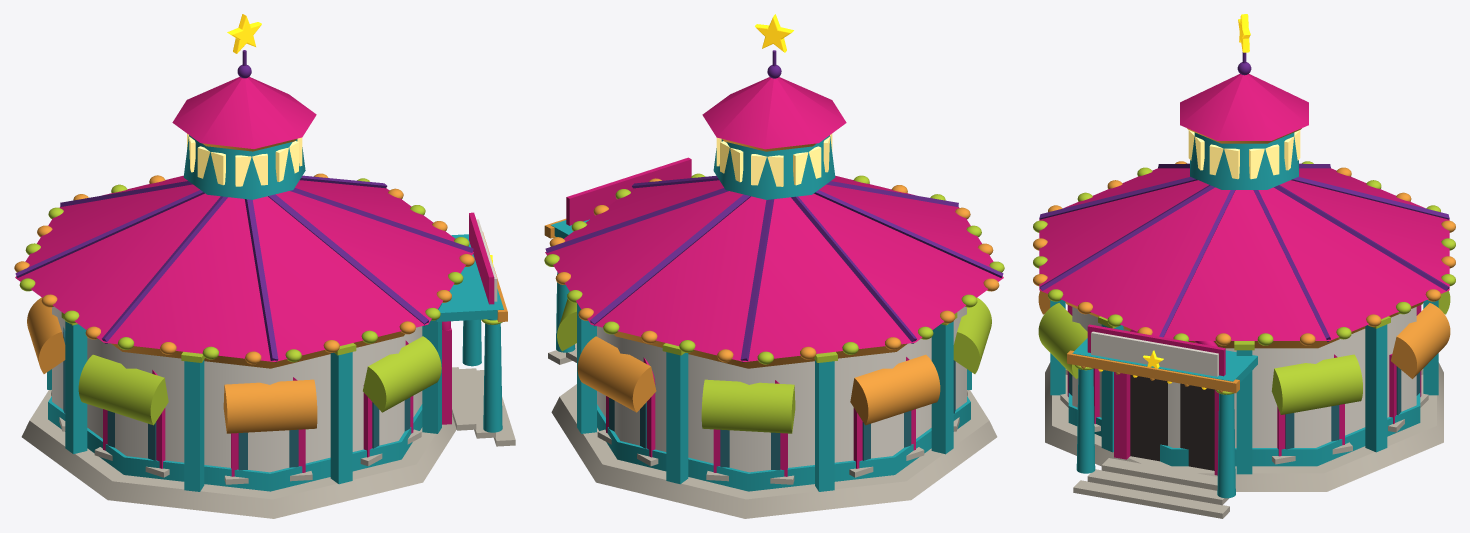
File: hub.glb
3 views of the same model, side by side, from view 1: azimuth 30°, elevation 25°; view 2: azimuth 150°, elevation 25°; view 3: azimuth 270°, elevation 25° (orthographic). The views are drawn at different scales.
Visible parts, largest first — view 1: roof_cone, wall_drum, plinth, lantern_roof, wall_skirt, awning_2, awning_3, lantern_drum, awning_1, pilaster_2, pilaster_3, pilaster_4 (+26 smaller); view 2: roof_cone, wall_drum, plinth, lantern_roof, wall_skirt, awning_5, awning_4, lantern_drum, awning_6, pilaster_6, pilaster_4, pilaster_5 (+20 smaller); view 3: roof_cone, wall_drum, plinth, lantern_roof, door_recess, awning_7, wall_skirt, lantern_drum, sign_panel, pilaster_7, awning_6, step_tread_0 (+25 smaller).
Boxes of the visible parts, x1=… form: roof_cone: x1=15, y1=175, x2=473, y2=361; wall_drum: x1=52, y1=306, x2=422, y2=472; plinth: x1=21, y1=390, x2=456, y2=518; lantern_roof: x1=172, y1=76, x2=316, y2=148; wall_skirt: x1=48, y1=396, x2=422, y2=491; awning_2: x1=223, y1=379, x2=317, y2=433; awning_3: x1=78, y1=354, x2=168, y2=425; lantern_drum: x1=183, y1=135, x2=305, y2=199; awning_1: x1=363, y1=336, x2=441, y2=412; pilaster_2: x1=330, y1=352, x2=352, y2=484; pilaster_3: x1=184, y1=360, x2=204, y2=491; pilaster_4: x1=65, y1=321, x2=87, y2=454; roof_cone: x1=545, y1=176, x2=1003, y2=361; wall_drum: x1=597, y1=306, x2=966, y2=472; plinth: x1=551, y1=384, x2=997, y2=518; lantern_roof: x1=702, y1=77, x2=846, y2=149; wall_skirt: x1=597, y1=396, x2=970, y2=491; awning_5: x1=701, y1=379, x2=795, y2=433; awning_4: x1=850, y1=354, x2=940, y2=425; lantern_drum: x1=713, y1=135, x2=835, y2=199; awning_6: x1=577, y1=336, x2=656, y2=412; pilaster_6: x1=666, y1=352, x2=688, y2=484; pilaster_4: x1=931, y1=321, x2=953, y2=454; pilaster_5: x1=815, y1=360, x2=834, y2=491; roof_cone: x1=1039, y1=168, x2=1449, y2=340; wall_drum: x1=1072, y1=307, x2=1416, y2=447; plinth: x1=1045, y1=362, x2=1443, y2=491; lantern_roof: x1=1180, y1=74, x2=1308, y2=140; door_recess: x1=1130, y1=375, x2=1214, y2=470; awning_7: x1=1271, y1=354, x2=1362, y2=414; wall_skirt: x1=1068, y1=393, x2=1420, y2=466; lantern_drum: x1=1190, y1=132, x2=1298, y2=189; sign_panel: x1=1091, y1=331, x2=1218, y2=376; pilaster_7: x1=1365, y1=324, x2=1387, y2=452; awning_6: x1=1391, y1=303, x2=1450, y2=378; step_tread_0: x1=1073, y1=480, x2=1229, y2=518.
Bounding box in the file's own units: 15.29 × 13.97 × 13.61.
